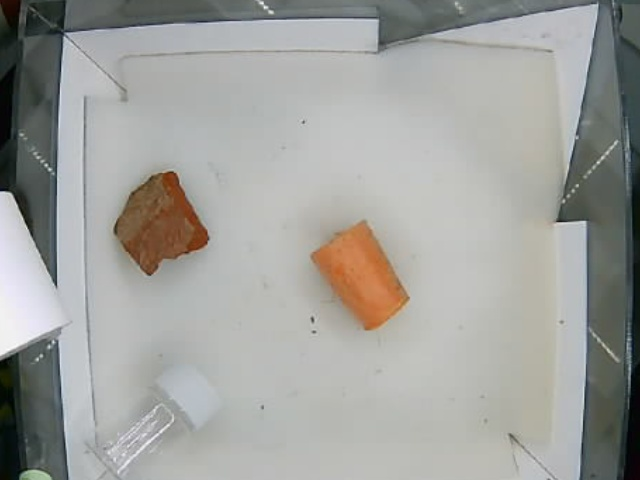Bottle: (90, 361, 226, 479)
Brisk: (113, 171, 211, 279)
Carrot: (309, 216, 408, 331)
